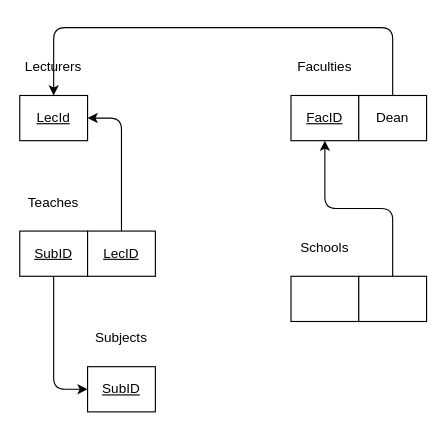
Some shapes in this 446 by 432 pixel diagram are drawn without their labels. The box of each missing label's shape, as (x1, y1, x2, y2) in pixels:
Faculty: (358, 275, 427, 321)
SchID: (290, 275, 359, 321)
